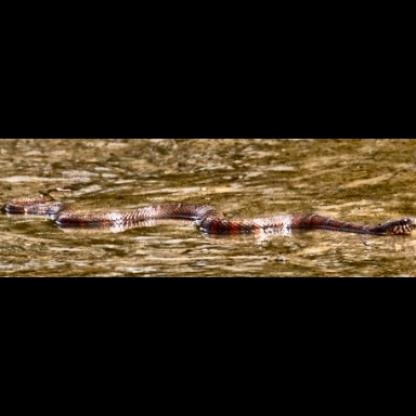Snake: (0, 189, 416, 245)
